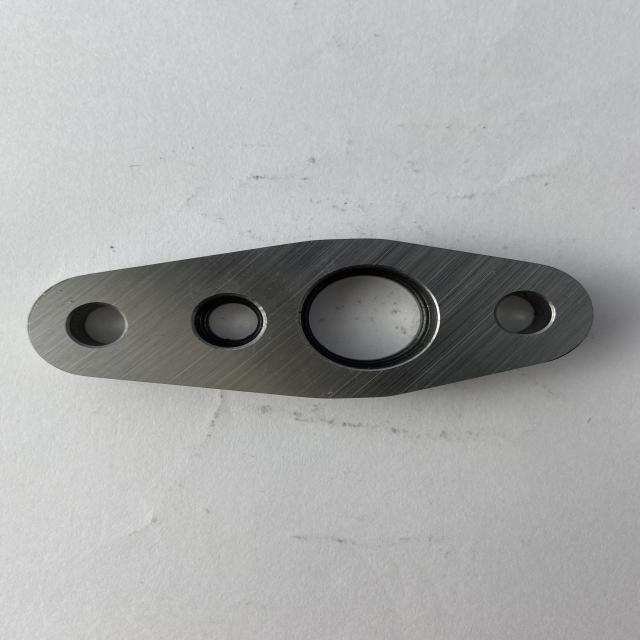chap: (67, 298, 76, 305), (58, 289, 64, 293)
